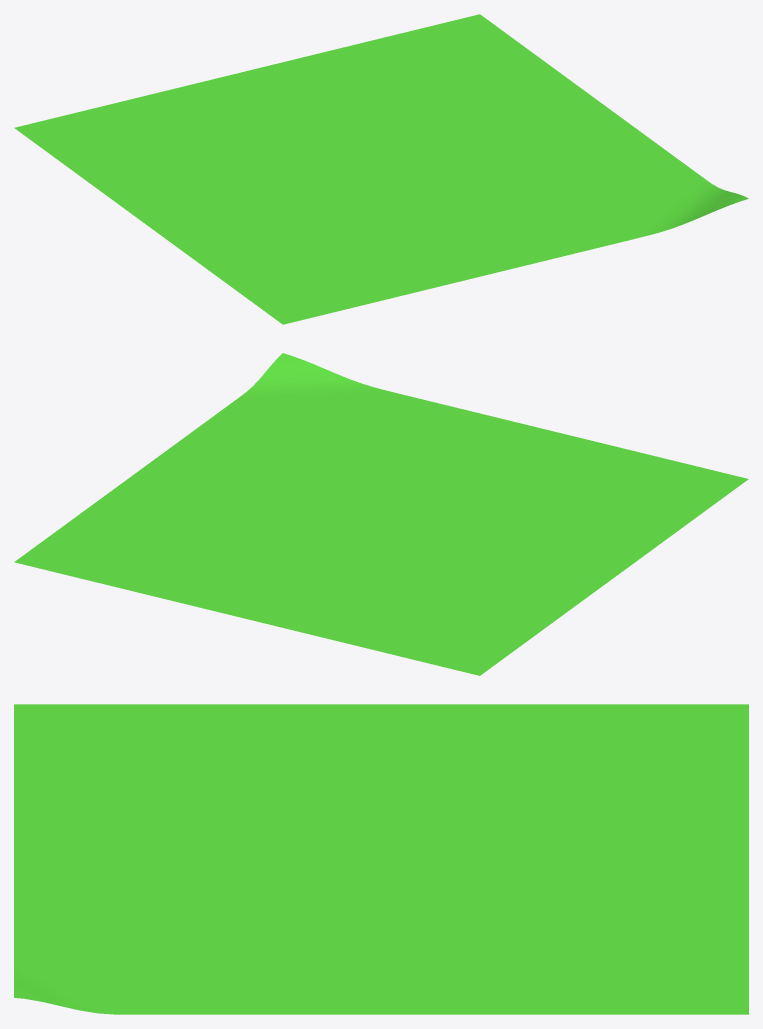
Rendered from tile_100_100.glb.
3 views of the same model, one above another, from view 1: azimuth 30°, elevation 25°; view 2: azimuth 150°, elevation 25°; view 3: azimuth 270°, elevation 25° (orthographic). The views are drawn at different scales.
Parts seen in each view (by area): view 1: tile_100_100; view 2: tile_100_100; view 3: tile_100_100.
Boxes of the visible parts, <box> form: tile_100_100: <box>14,14,748,324</box>; tile_100_100: <box>14,353,748,675</box>; tile_100_100: <box>14,704,748,1014</box>.
Bounding box in the file's own units: 100 × 2.54 × 100.
